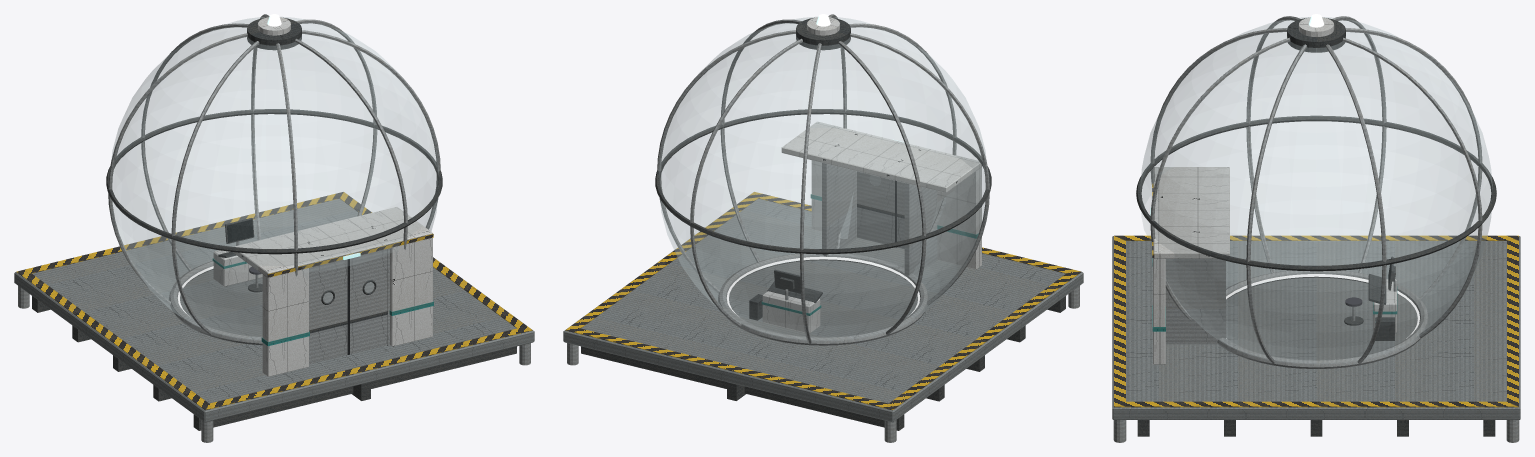
The picture shows the model from 3 angles, left to right: view 1: azimuth 30°, elevation 25°; view 2: azimuth 150°, elevation 25°; view 3: azimuth 270°, elevation 25°; orthographic projection. The views are drawn at different scales.
Parts seen in each view (by area): view 1: body, glass, door_l, door_r; view 2: body, glass, door_r, lights_on, door_l; view 3: body, glass, lights_on.
Part boxes in pixels (x1,y1,x2,y2): body: [14, 14, 534, 442]; glass: [112, 17, 438, 339]; door_l: [309, 259, 348, 363]; door_r: [349, 249, 387, 354]; body: [563, 14, 1083, 442]; glass: [659, 17, 985, 340]; door_r: [857, 171, 895, 243]; lights_on: [726, 14, 920, 316]; door_l: [896, 181, 904, 249]; body: [1112, 16, 1520, 442]; glass: [1140, 17, 1492, 363]; lights_on: [1150, 14, 1419, 338].
Bounding box in the file's own units: 10.4 × 9.58 × 10.4.
15 materials, 10 textured.
